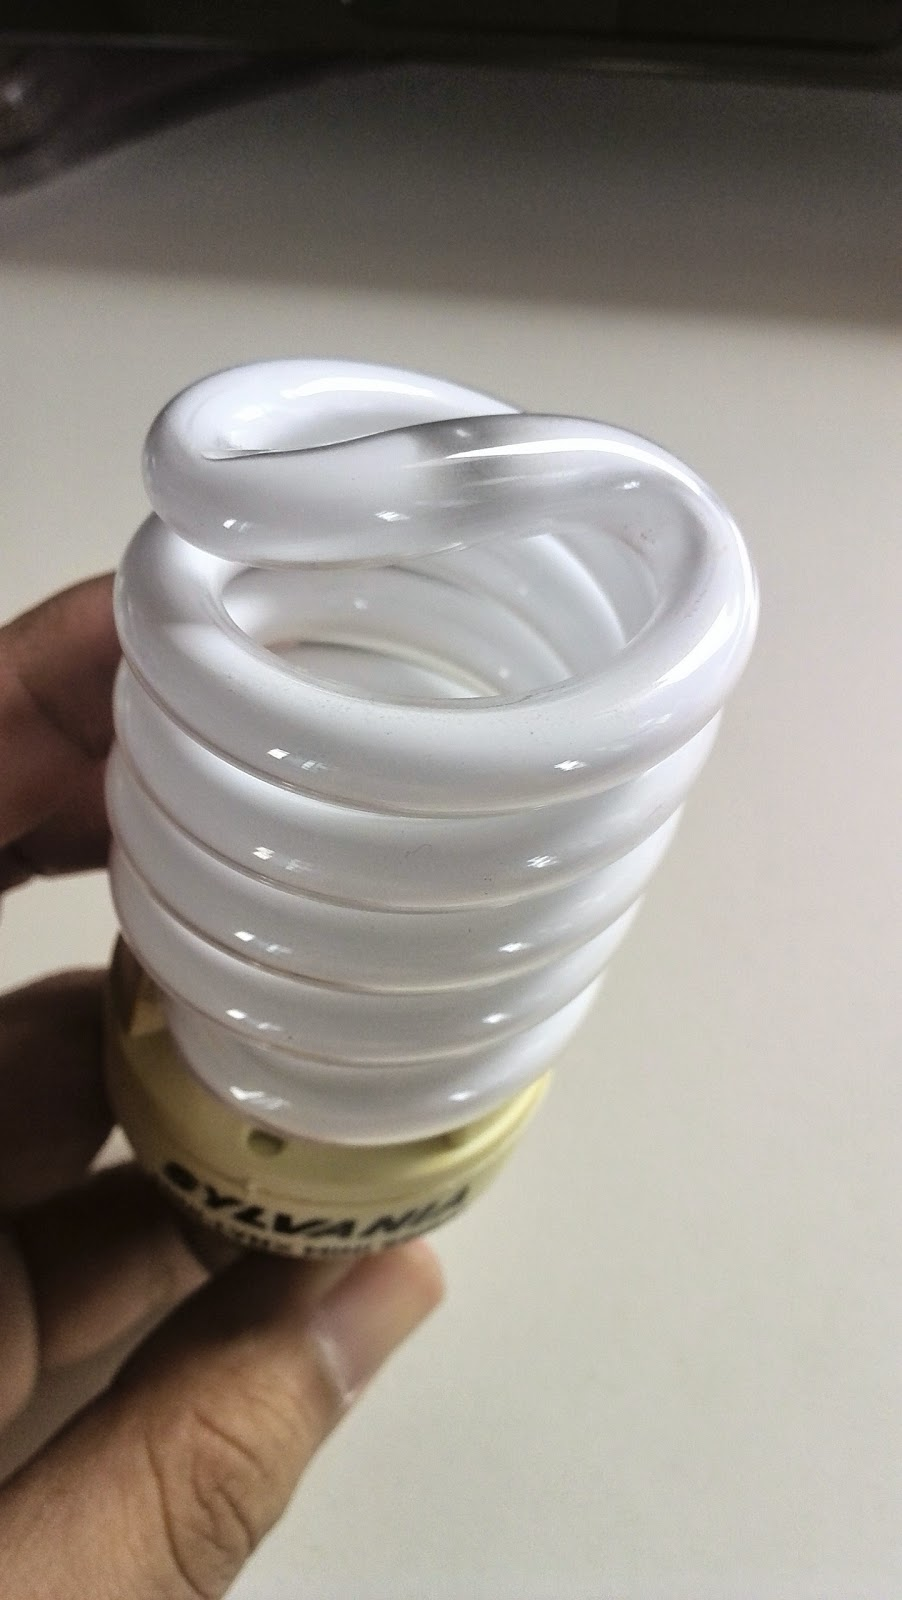Light_bulb: (101, 333, 767, 1318)
